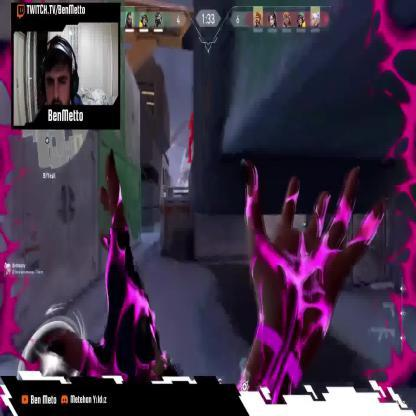enemy: (188, 110, 200, 163)
enemy_head: (190, 111, 195, 119)
